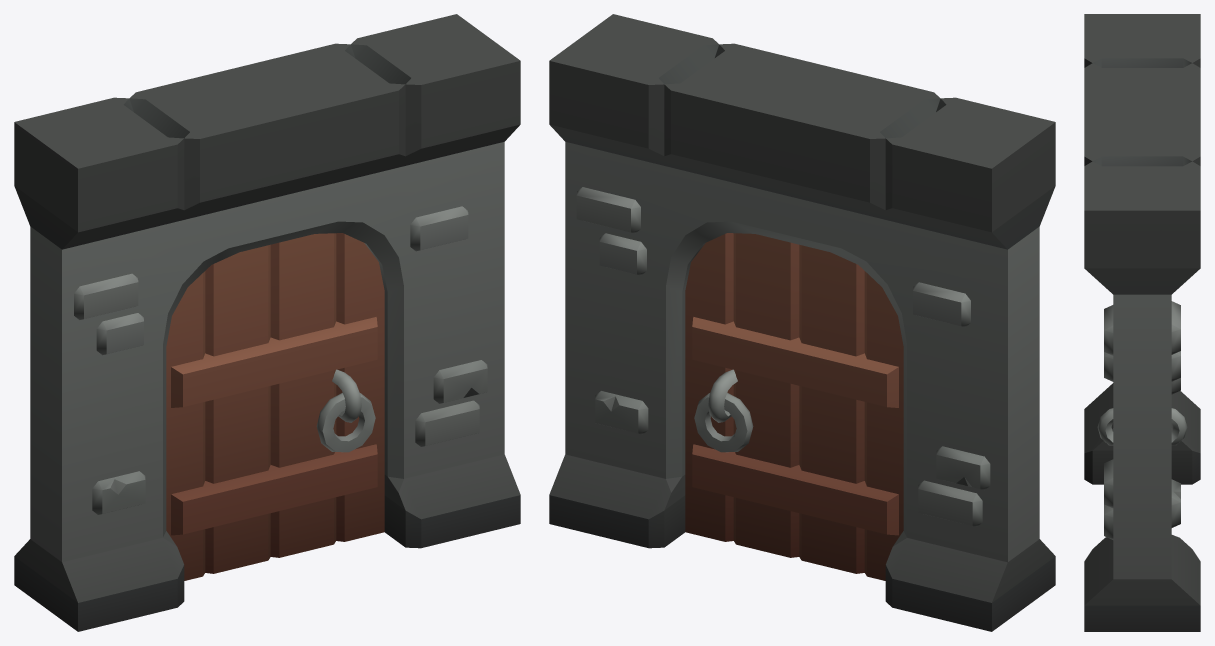
File: wall-doorway.glb
3 renders of one model, left to right at view 1: azimuth 30°, elevation 25°; view 2: azimuth 150°, elevation 25°; view 3: azimuth 270°, elevation 25°, orthographic. The views are drawn at different scales.
Parts seen in each view (by area): view 1: wall-doorway; view 2: wall-doorway; view 3: wall-doorway.
Boxes of the visible parts, x1,y1,x2,y2 form: wall-doorway: (14,14,520,631); wall-doorway: (549,14,1055,631); wall-doorway: (1084,14,1200,631).
Bounding box in the file's own units: 3 × 3 × 0.7501.
